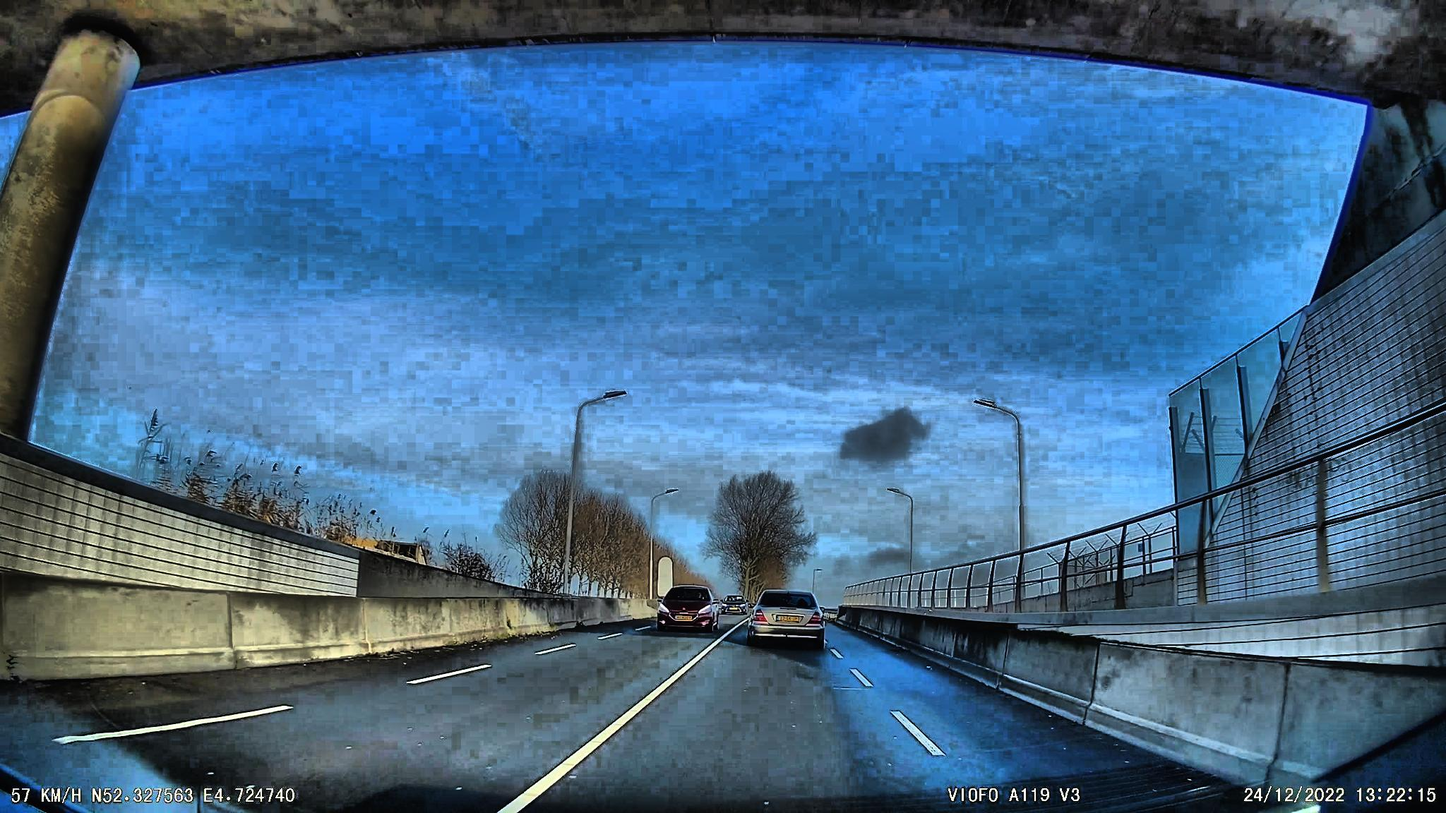Roads: (0, 626, 1253, 813)
